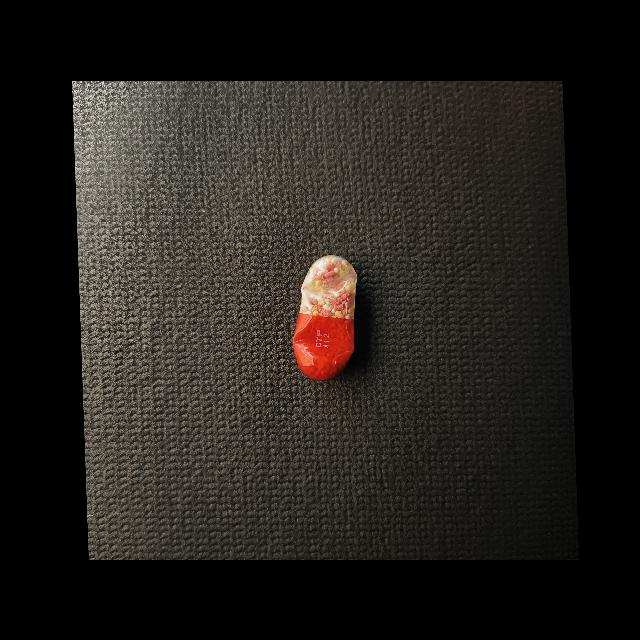Defective Capsule: (293, 254, 357, 380)
